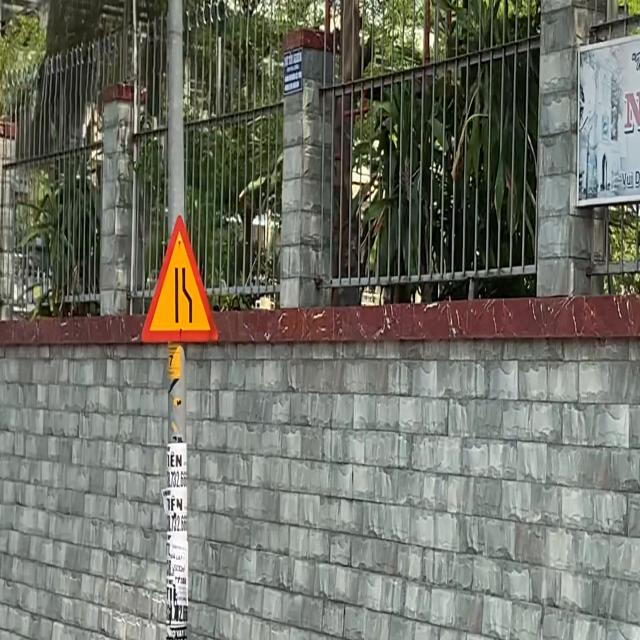Nguy hiem: (134, 210, 224, 353)
